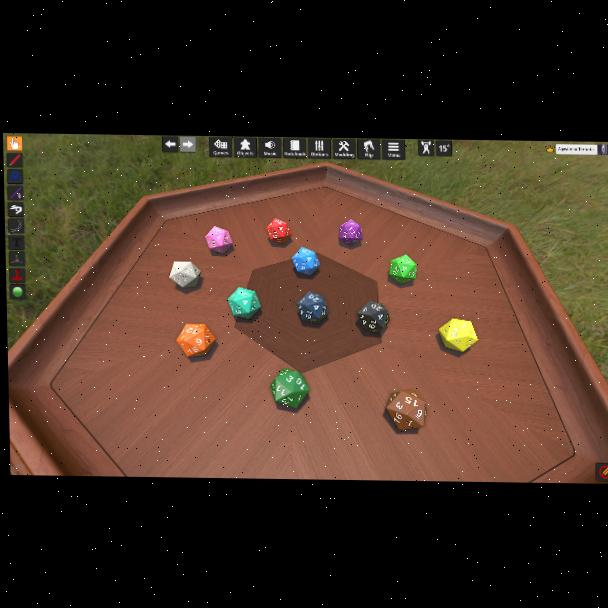d20: (270, 368, 311, 408), (385, 390, 421, 430), (438, 317, 477, 352), (177, 323, 216, 357), (226, 287, 259, 320), (295, 291, 328, 324), (357, 301, 389, 332), (169, 261, 201, 288), (291, 247, 320, 276), (389, 255, 415, 285), (205, 226, 231, 254), (266, 218, 292, 244), (338, 219, 362, 245)
